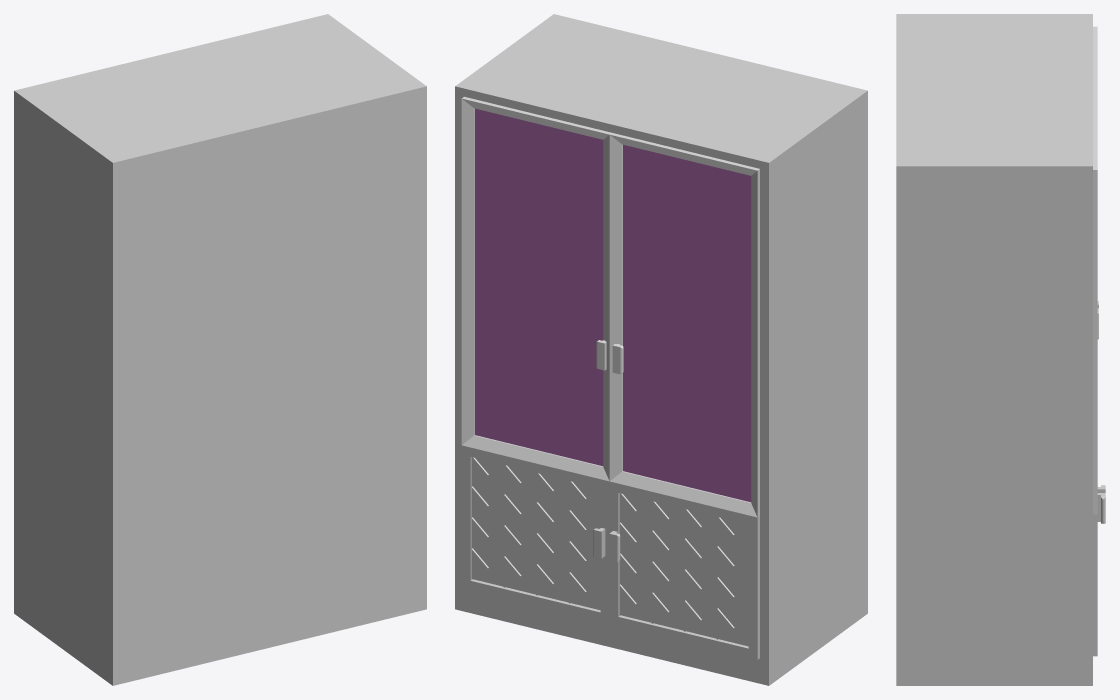
File: closet.fbx
3 views of the same model, side by side, from view 1: azimuth 30°, elevation 25°; view 2: azimuth 150°, elevation 25°; view 3: azimuth 270°, elevation 25° (orthographic).
Parts seen in each view (by area): view 1: closet; view 2: closet, glassdoorL, glassdoorR, doorL, doorR; view 3: closet, glassdoorR, doorR, glassdoorL.
Part boxes in pixels (<box>): closet: <box>14,14,426,685</box>; closet: <box>455,14,867,685</box>; glassdoorL: <box>609,133,759,517</box>; glassdoorR: <box>461,96,611,481</box>; doorL: <box>609,481,759,659</box>; doorR: <box>461,445,609,623</box>; closet: <box>896,14,1092,685</box>; glassdoorR: <box>1093,98,1098,514</box>; doorR: <box>1093,493,1105,656</box>; glassdoorL: <box>1093,26,1098,308</box>.
Bounding box in the file's own units: 242 × 386 × 141.
